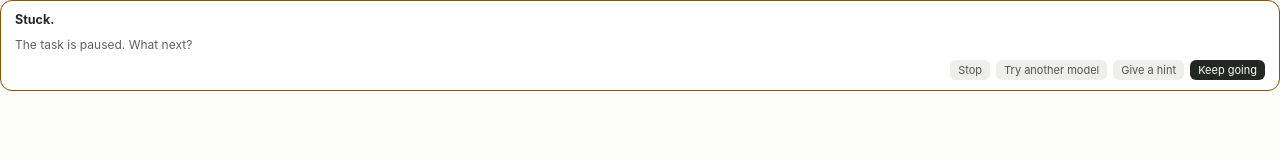
Test: shows an error and keeps the buttons when an action fails
Click the button "Keep going" at {"x": 1228, "y": 70}, box 1190,60 -> 1265,80
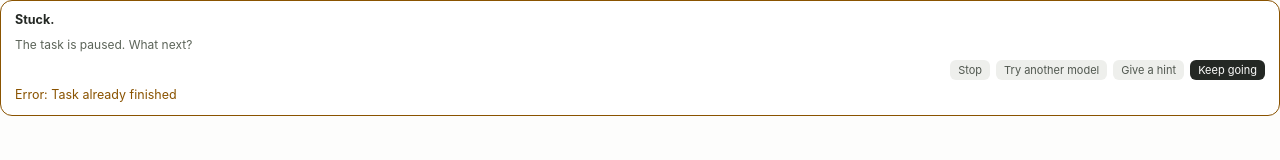
Expected: the button "Stop" is shown, 950,60 -> 990,80
Expected: the text "Error: Task already finished" is shown, 15,87 -> 177,102
